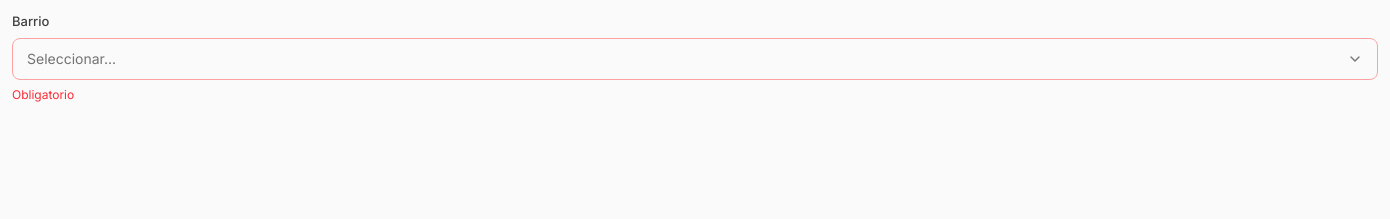
FormField › searchable-select › filtra ignorando tildes y mayúsculas, limpia y muestra el vacío
Click the button "Seleccionar...": coordinates (72, 58) [12,38,1378,80]
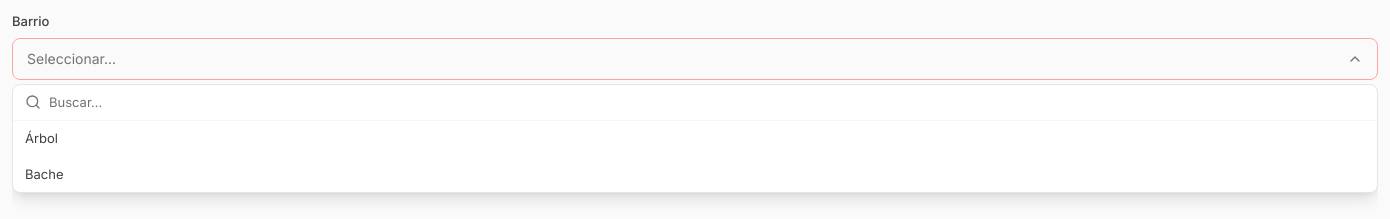
In the field with placeholder "Buscar...": coordinates (707, 102) [49,92,1365,112], type "ARBOL"
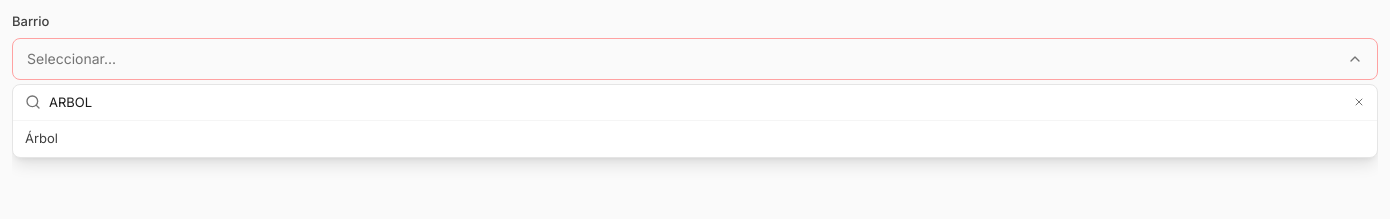
Expected: the button "Árbol" is shown, [13,121,1377,156]
Expected: the button "Bache" is gone
Replace the text in the field with placeholder "Buscar..." with "zzz": coordinates (697, 102) [49,92,1345,112]
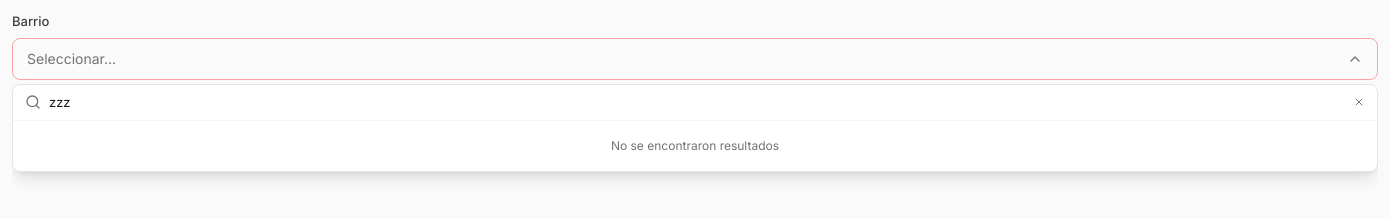
Expected: the text "No se encontraron resultados" is shown, [611,138,779,153]
Click the button named "Limpiar búsqueda": coordinates (1359, 102) [1353,96,1365,108]
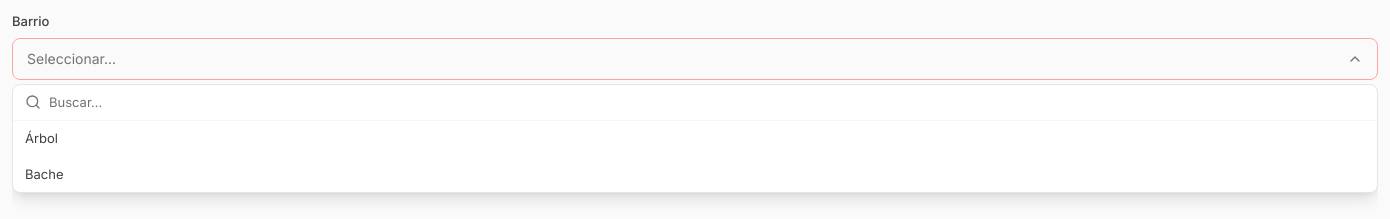
Expected: the text "Obligatorio" is shown, [12,86,74,102]
Expected: the button "Bache" is shown, [13,156,1377,192]
